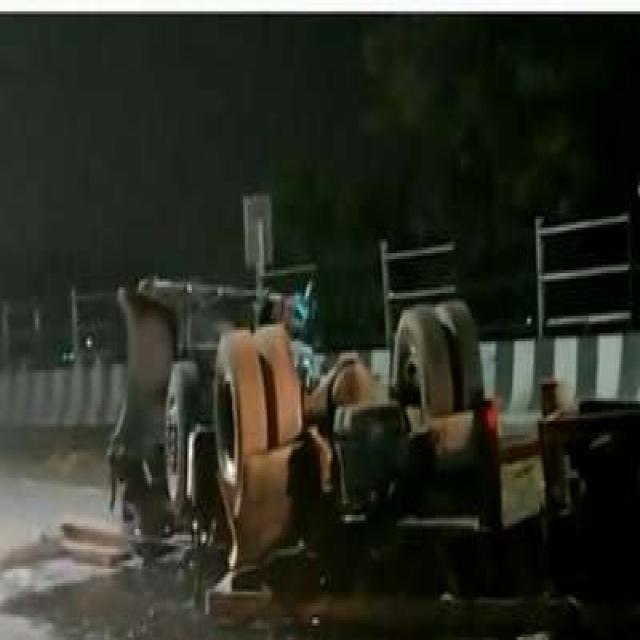accident: (108, 278, 640, 619)
